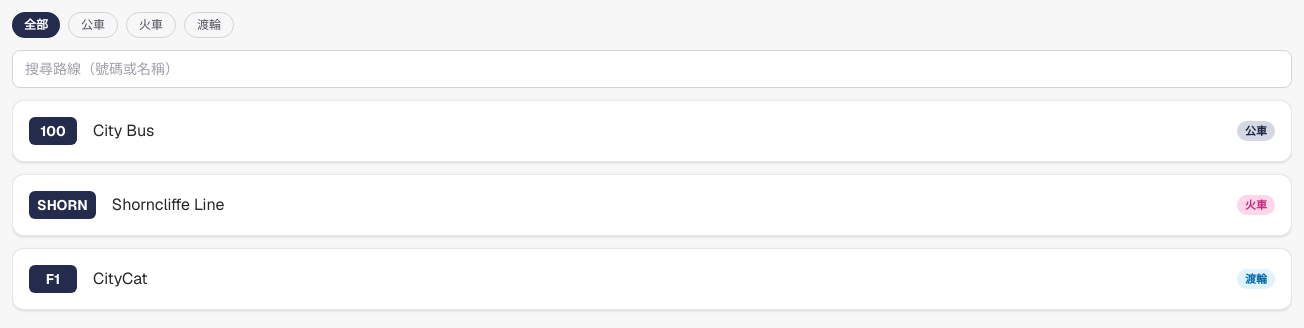
Scenario: Change 07: RouteList › Change 39: shows mode filter and filters by mode when multiple modes present
This screenshot has width=1304, height=328.
Check: the text "City Bus" is shown, box [93, 120, 154, 141]
Check: the button "全部" is shown, box [12, 12, 60, 38]
Note: 點「火車」只剩 train
Click the button "火車".
click(151, 25)  # box [126, 12, 176, 38]
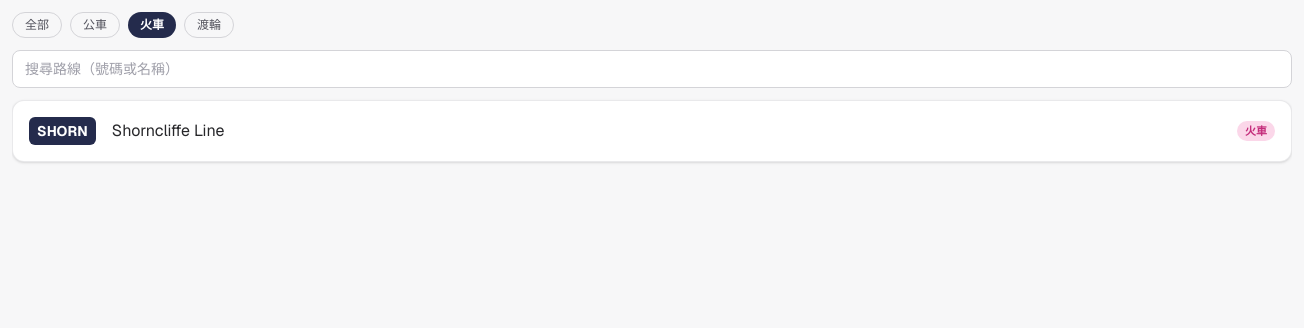
Check: the text "Shorncliffe Line" is shown, box [112, 120, 224, 141]
Check: the link "City Bus" is gone
Check: the link "CityCat" is gone
